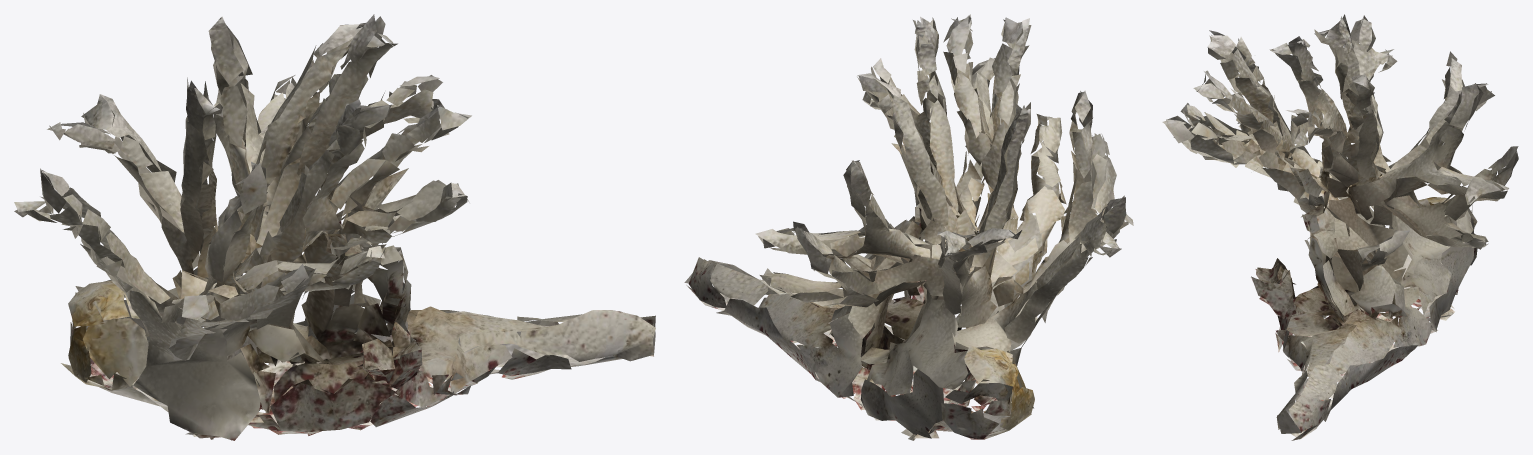
The model's file is Acropora_LOD2.fbx.
3 renders of one model, left to right at view 1: azimuth 30°, elevation 25°; view 2: azimuth 150°, elevation 25°; view 3: azimuth 270°, elevation 25°, orthographic. The views are drawn at different scales.
Parts seen in each view (by area): view 1: Acropora_LOD2; view 2: Acropora_LOD2; view 3: Acropora_LOD2.
Boxes of the visible parts, x1,y1,x2,y2 form: Acropora_LOD2: [14, 14, 655, 440]; Acropora_LOD2: [684, 14, 1133, 440]; Acropora_LOD2: [1162, 14, 1518, 440].
Bounding box in the file's own units: 99.95 × 70.89 × 70.17.
Materials: 1 (1 with a texture image).
